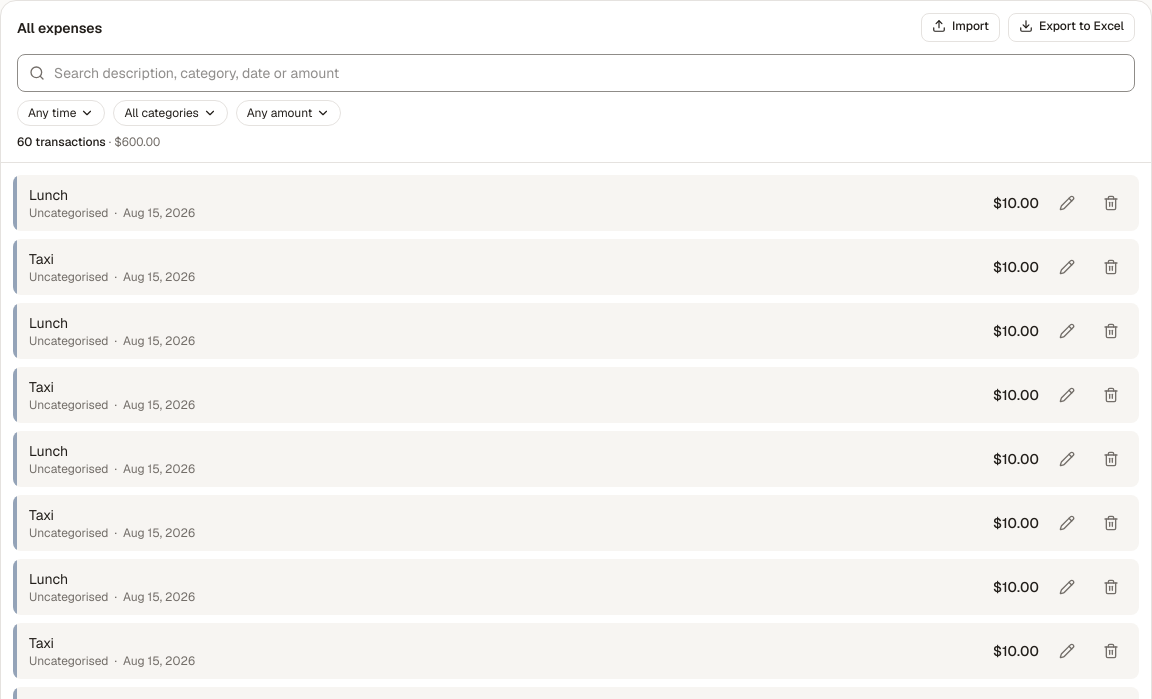
it: AllExpenses › exports every match — not only the rows drawn — with the filters in words
Expected: the text "60 transactions" is shown, left=17, top=134, right=106, bottom=150
Type "taxi" into the search field named "Search transactions".
click(576, 73); type("taxi")  # box left=17, top=54, right=1135, bottom=92
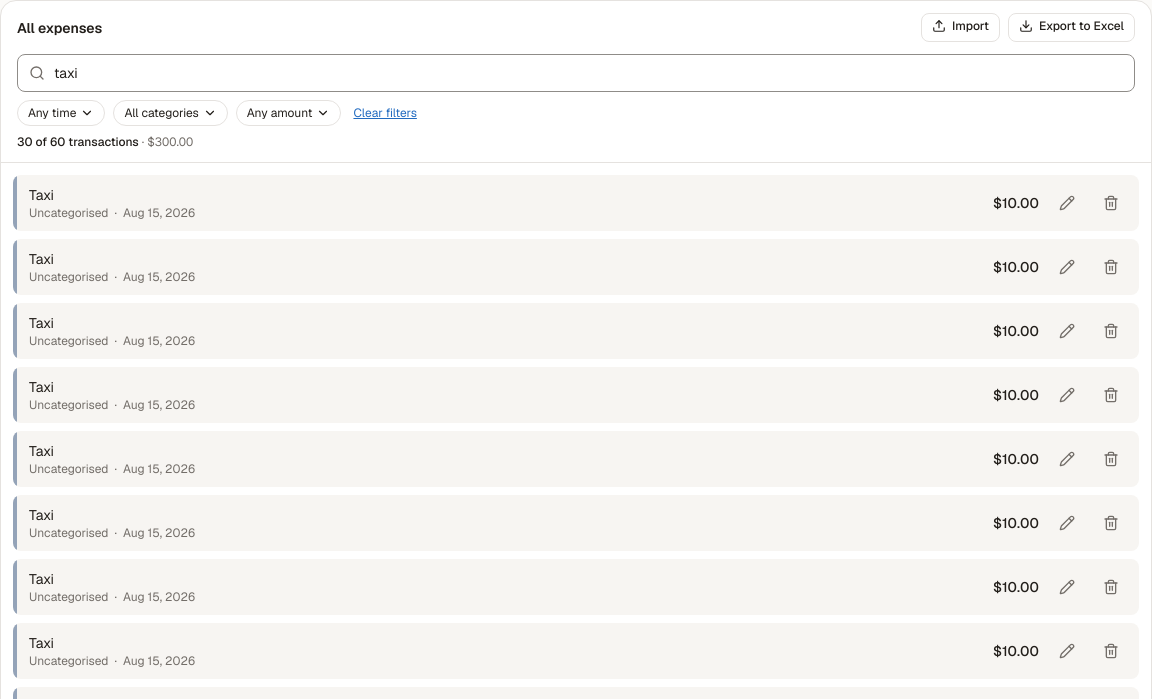
Click the button with aria-label "Export 30 transactions to Excel".
click(1072, 28)  # box left=1008, top=13, right=1135, bottom=42
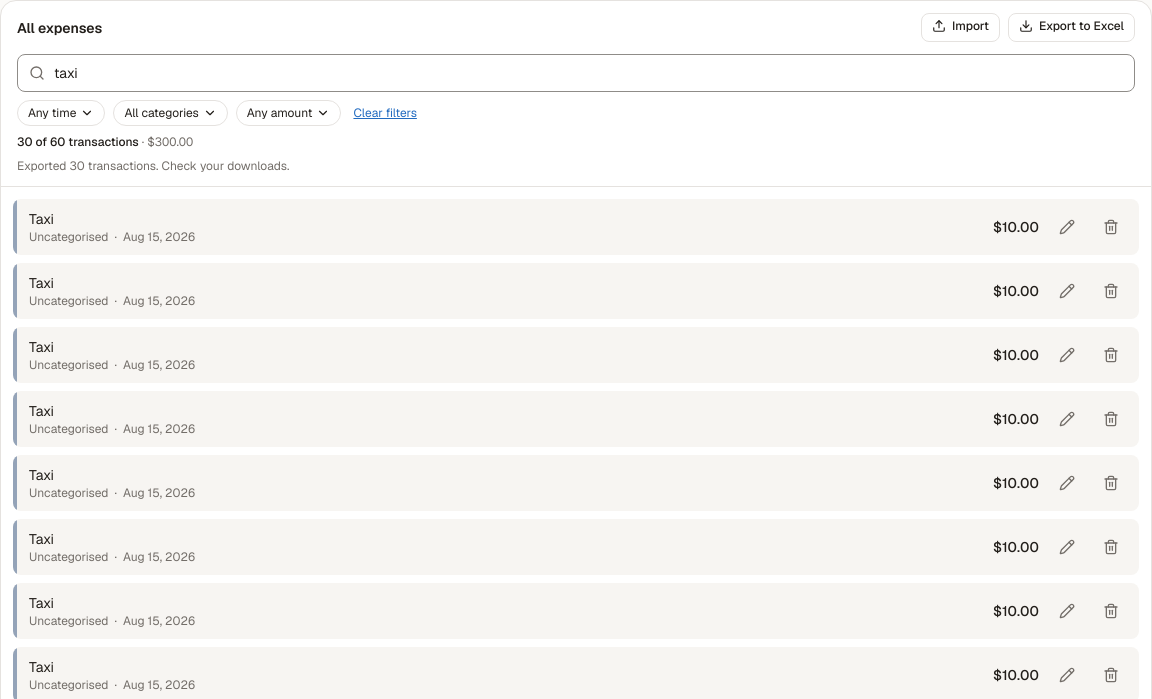
Result: the text "Exported 30 transactions. Check your downloads." is shown at left=17, top=158, right=290, bottom=174
